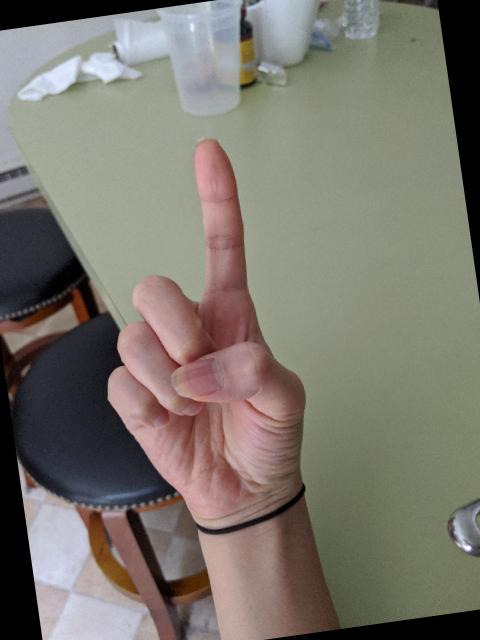D: (68, 122, 330, 538)
